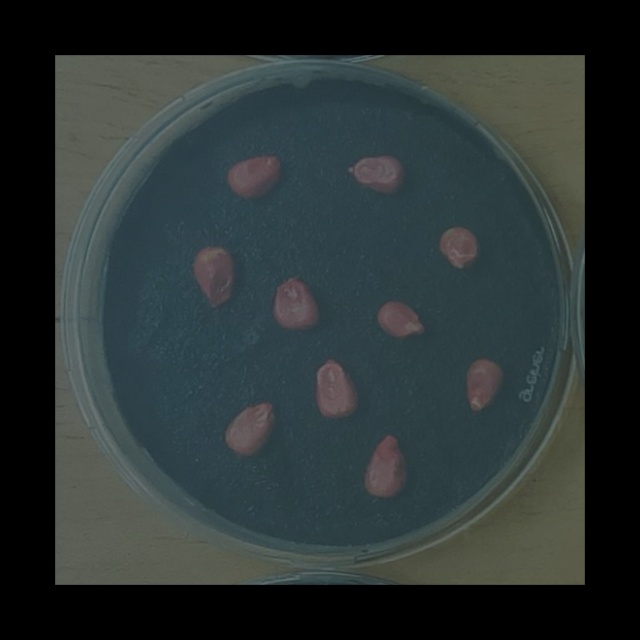Zea mays: (358, 428, 415, 506), (219, 147, 290, 207), (219, 396, 280, 463), (267, 269, 327, 337), (308, 353, 364, 425), (188, 242, 240, 316), (340, 150, 408, 200), (460, 353, 509, 419), (372, 296, 430, 345), (435, 223, 484, 276)
